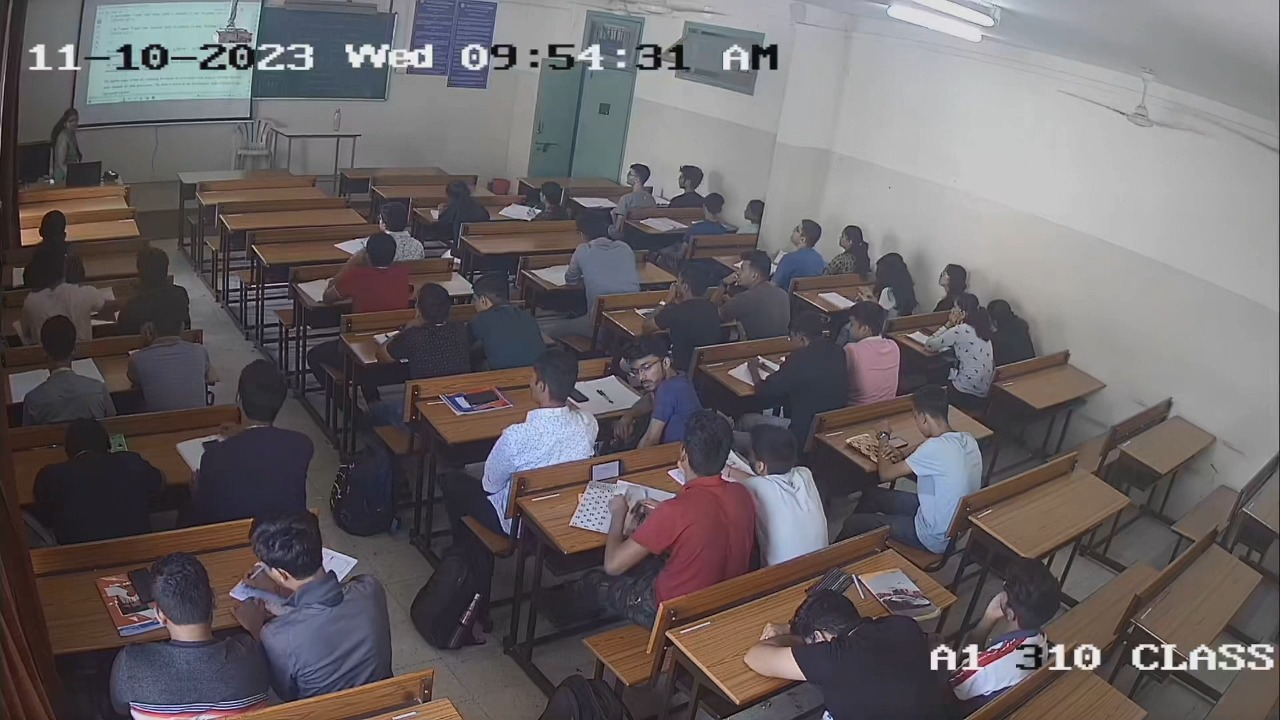cell-phones: (124, 564, 155, 606), (589, 457, 624, 484), (461, 388, 502, 407), (569, 386, 590, 405), (889, 434, 911, 449)
person: (104, 551, 269, 717), (606, 416, 755, 583), (487, 348, 601, 465), (880, 382, 983, 491)
